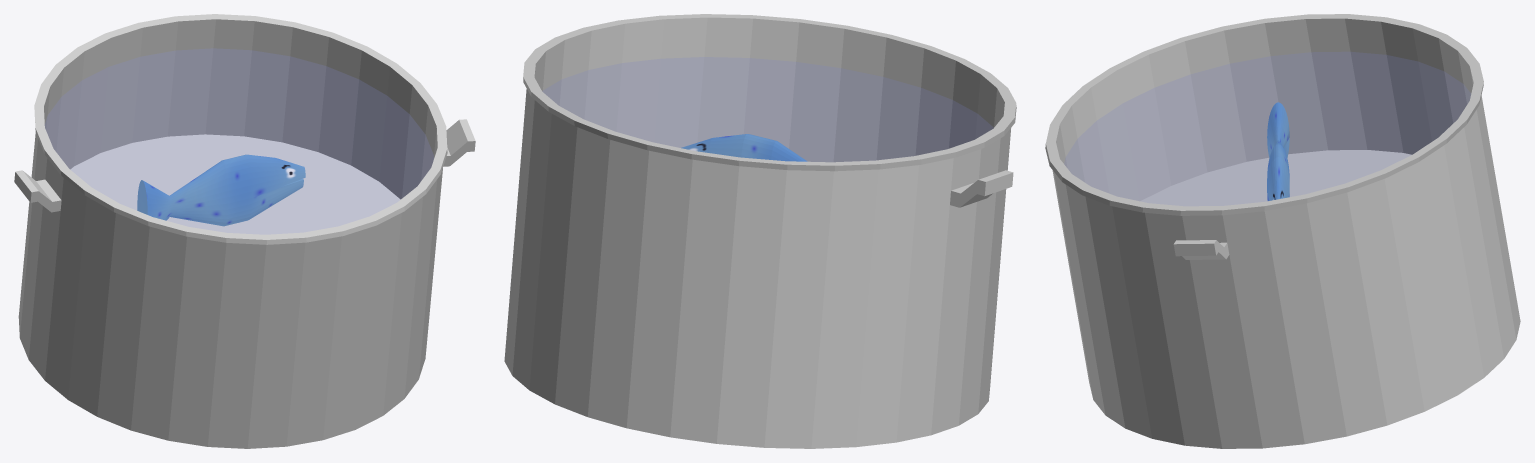
File: model_poisson.glb
The picture shows the model from 3 angles, left to right: view 1: azimuth 30°, elevation 25°; view 2: azimuth 150°, elevation 25°; view 3: azimuth 270°, elevation 25°; orthographic projection. The views are drawn at different scales.
Visible parts, largest first — view 1: chaudron, poisson; view 2: chaudron, poisson; view 3: chaudron, poisson.
Part boxes in pixels (x1=…): chaudron: x1=14, y1=14, x2=475, y2=448; poisson: x1=137, y1=154, x2=305, y2=226; chaudron: x1=504, y1=14, x2=1016, y2=448; poisson: x1=681, y1=134, x2=807, y2=161; chaudron: x1=1045, y1=14, x2=1520, y2=448; poisson: x1=1267, y1=102, x2=1289, y2=200.
Size of the model in its own units: 0.5902 by 0.389 by 0.5563.
3 materials, 1 textured.
